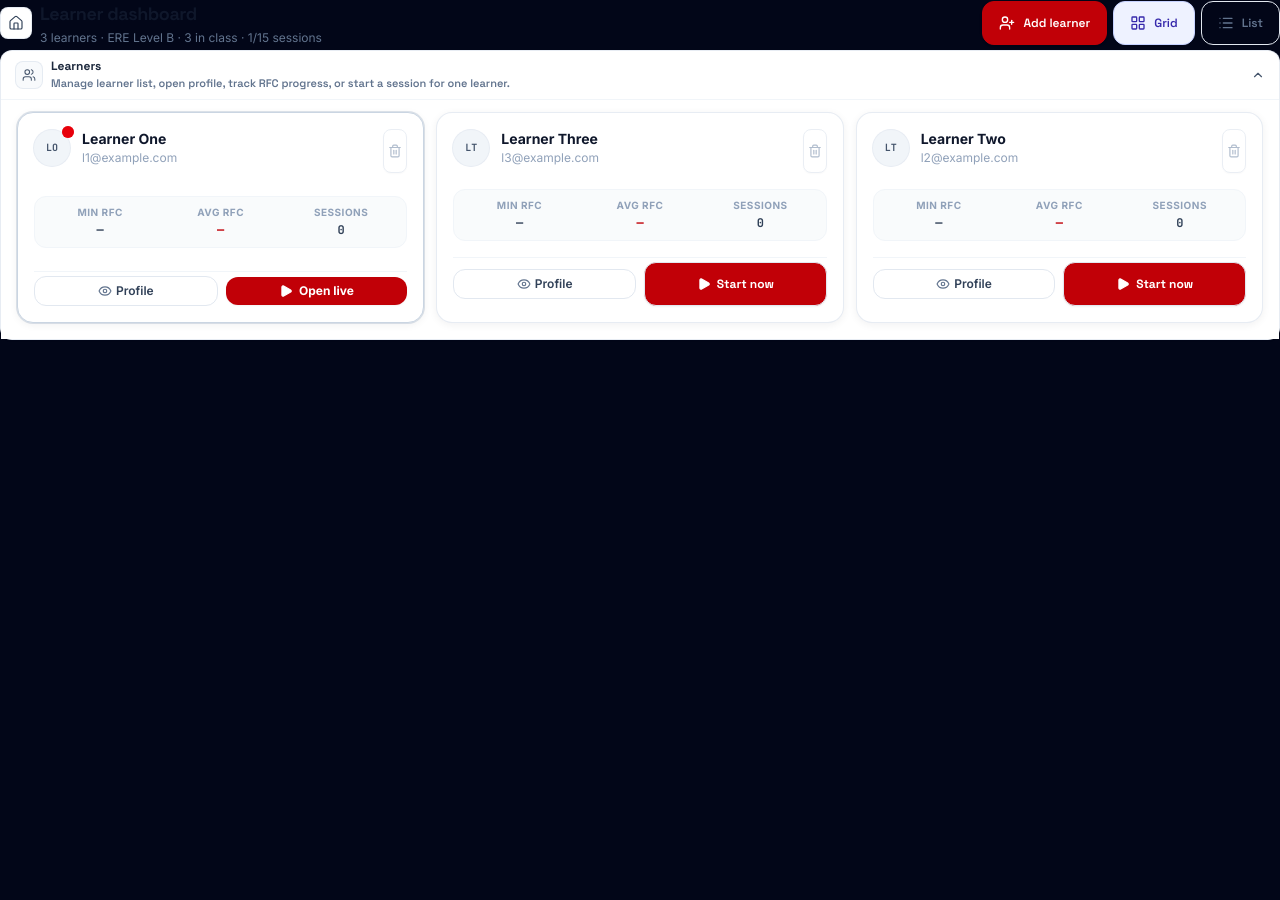
TeacherOverviewPage - Add Learner › closes rollover prompt without modifying sessions when Cancel is clicked
Click the 1st button "Start now".
click(735, 284)  # box [644, 262, 827, 306]
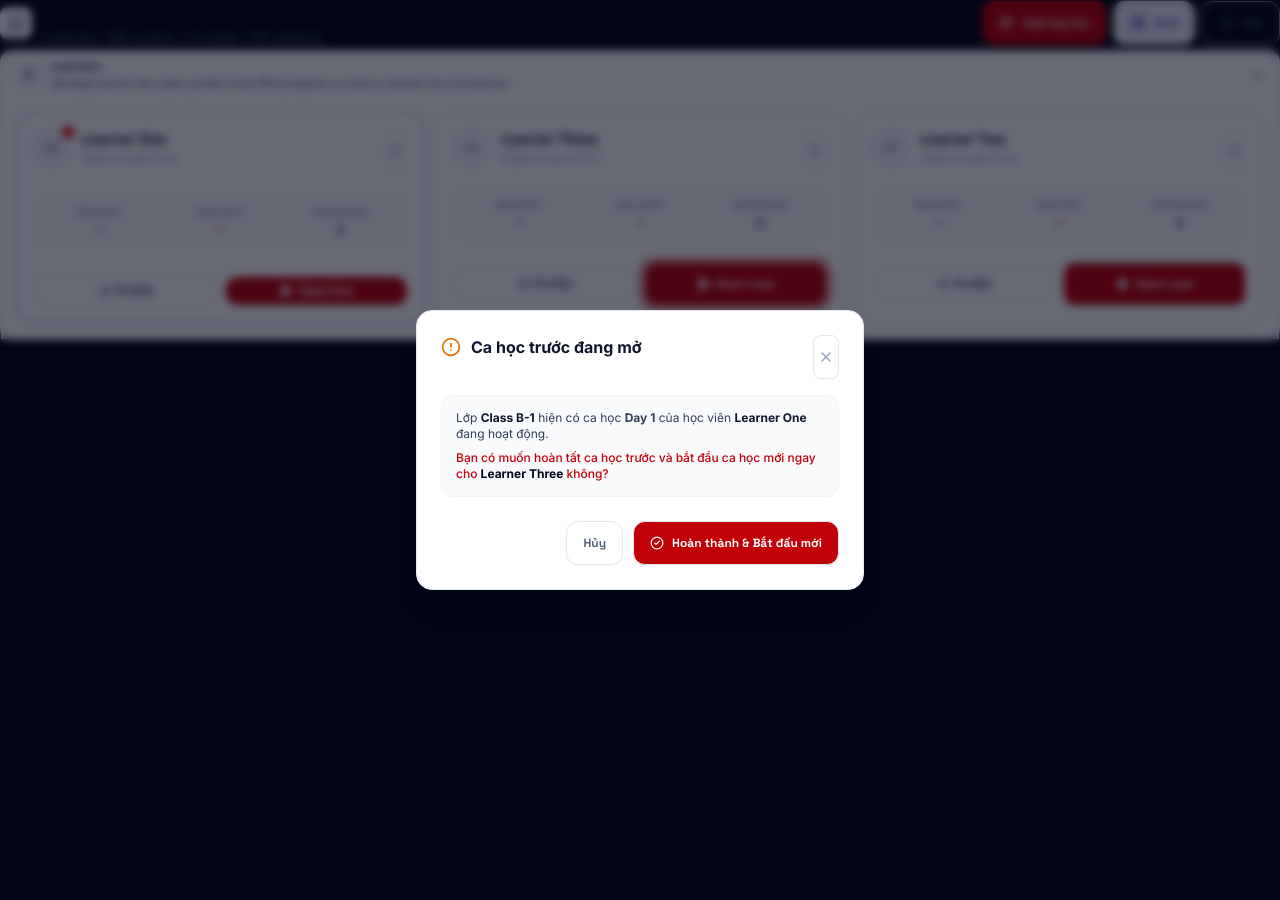
Expected: the heading "Ca học trước đang mở" is shown, [471, 335, 642, 359]
Click the button "Hủy".
click(595, 543)  # box [566, 521, 623, 565]
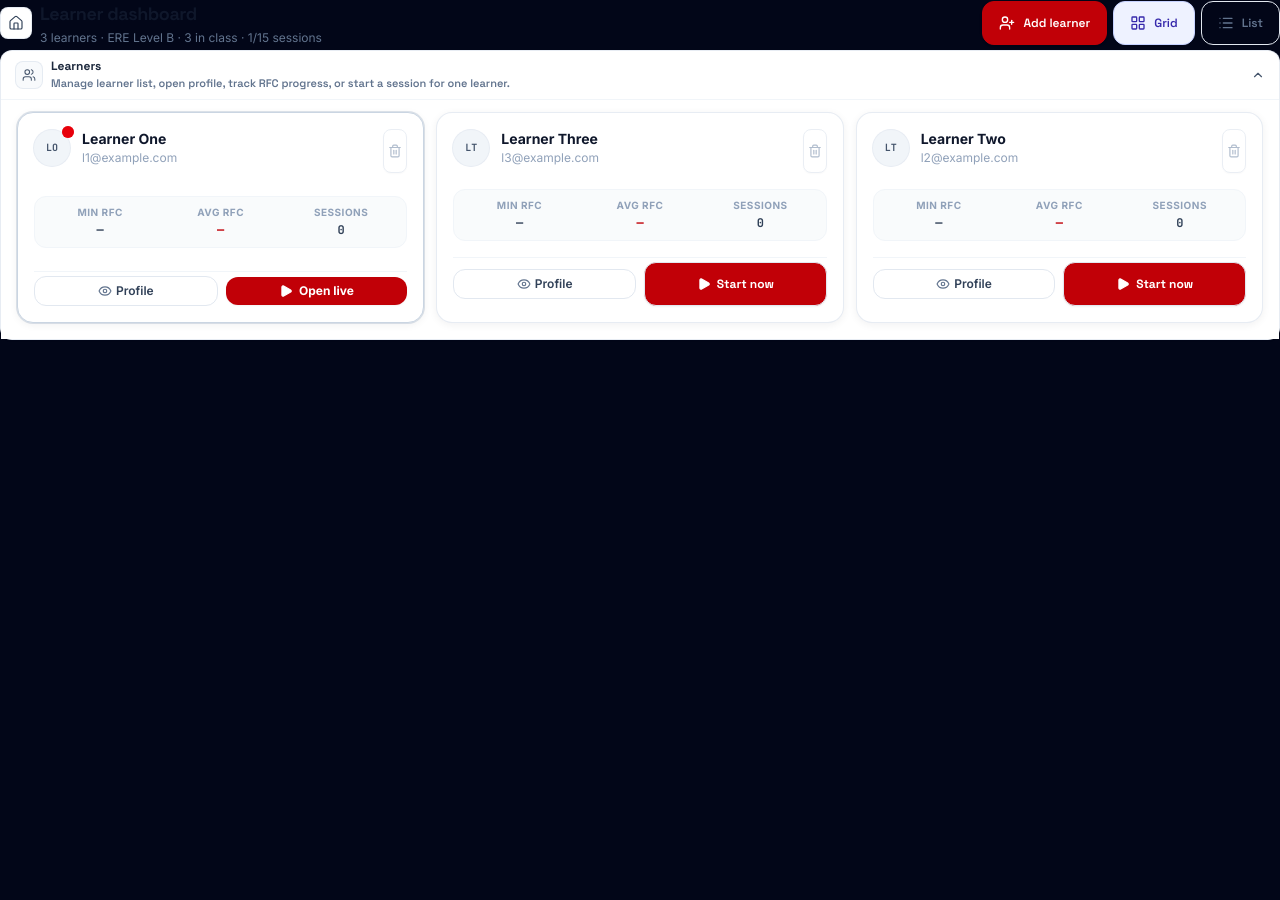
Expected: the heading "Ca học trước đang mở" is gone
